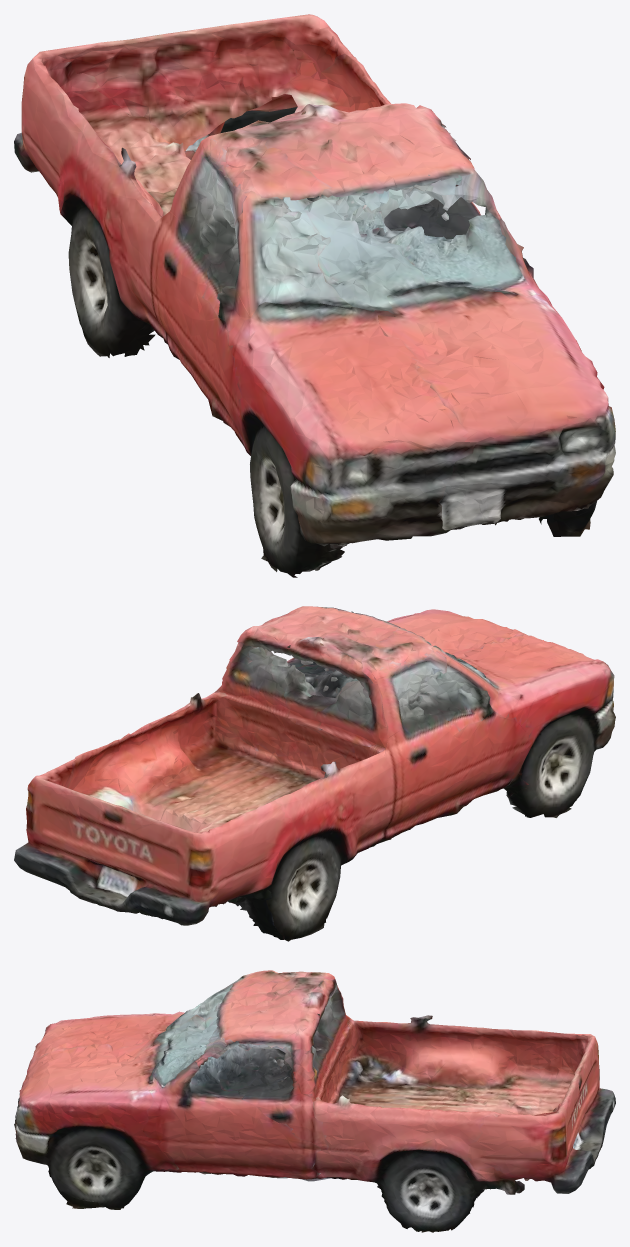
Rendered from pickup_toyota.glb.
3 renders of one model, top to bottom at view 1: azimuth 30°, elevation 25°; view 2: azimuth 150°, elevation 25°; view 3: azimuth 270°, elevation 25°, orthographic. The views are drawn at different scales.
Visible parts, largest first — view 1: Object_2; view 2: Object_2; view 3: Object_2.
Part boxes in pixels (x1,y1,x2,y2): Object_2: (14, 14, 615, 577); Object_2: (14, 606, 615, 941); Object_2: (14, 970, 615, 1232).
Bounding box in the file's own units: 1.24 × 0.8574 × 2.45.
Materials: 1 (1 with a texture image).
